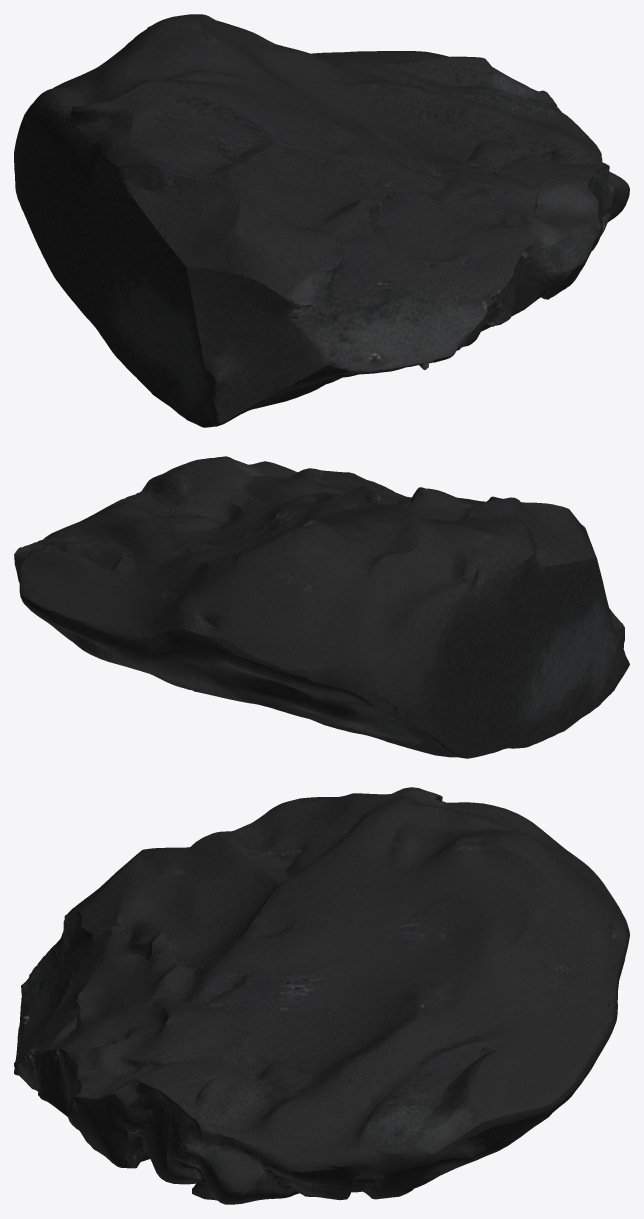
3 views of the same model, one above another, from view 1: azimuth 30°, elevation 25°; view 2: azimuth 150°, elevation 25°; view 3: azimuth 270°, elevation 25° (orthographic). The views are drawn at different scales.
Visible parts, largest first — view 1: world; view 2: world; view 3: world.
Boxes of the visible parts, <box> form: world: <box>14,14,629,427</box>; world: <box>14,456,629,758</box>; world: <box>14,787,629,1204</box>.
Size of the model in its own units: 1.2 by 0.6065 by 1.2.
Materials: 1 (1 with a texture image).
